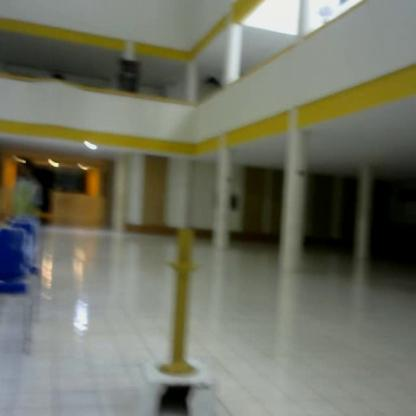pole: (155, 224, 209, 381)
